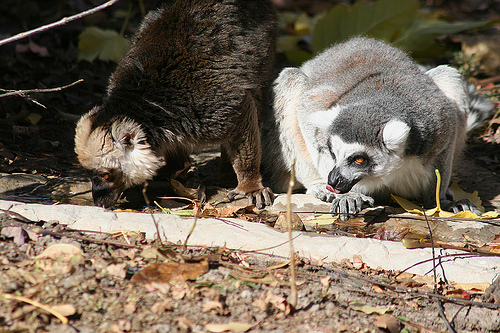cat: (71, 0, 281, 211), (274, 37, 493, 219)
